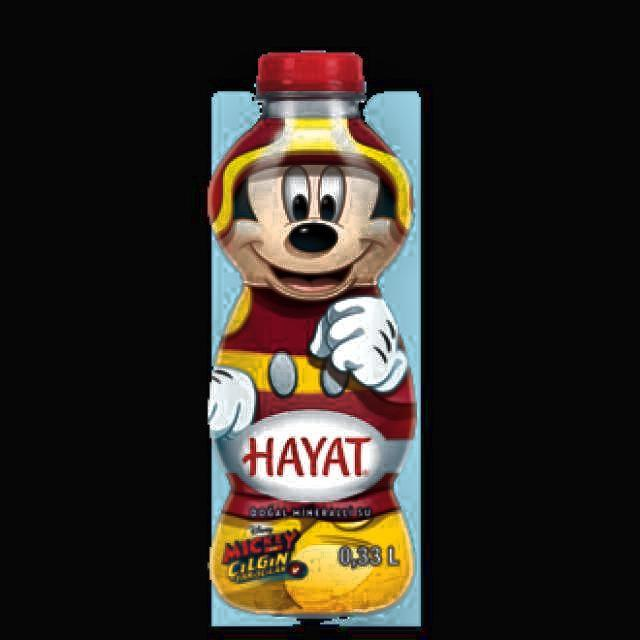plastic: (207, 51, 417, 625)
